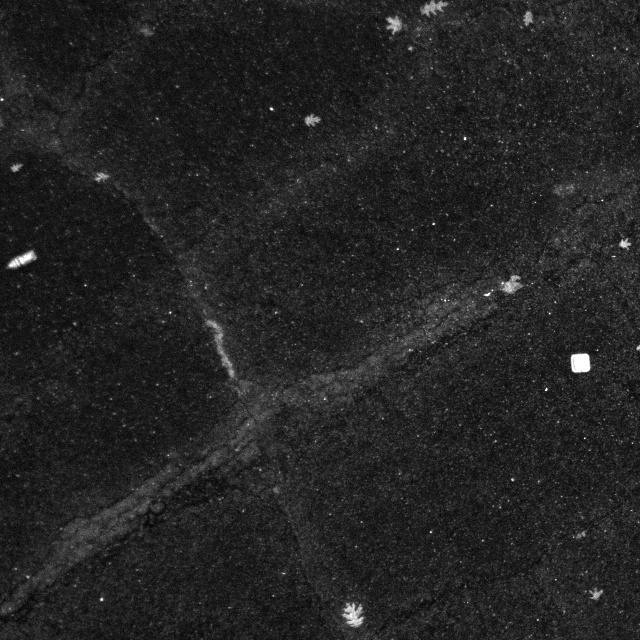container: (566, 345, 594, 376)
